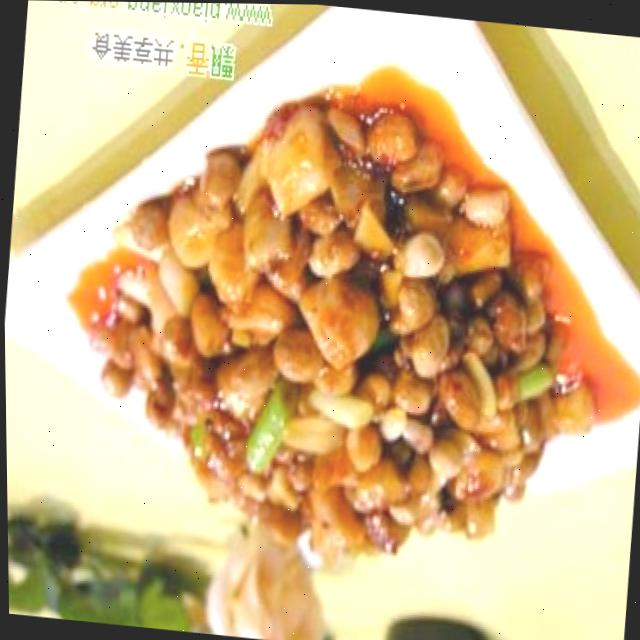鸡肉料理 含炸鸡: (29, 0, 640, 609)
